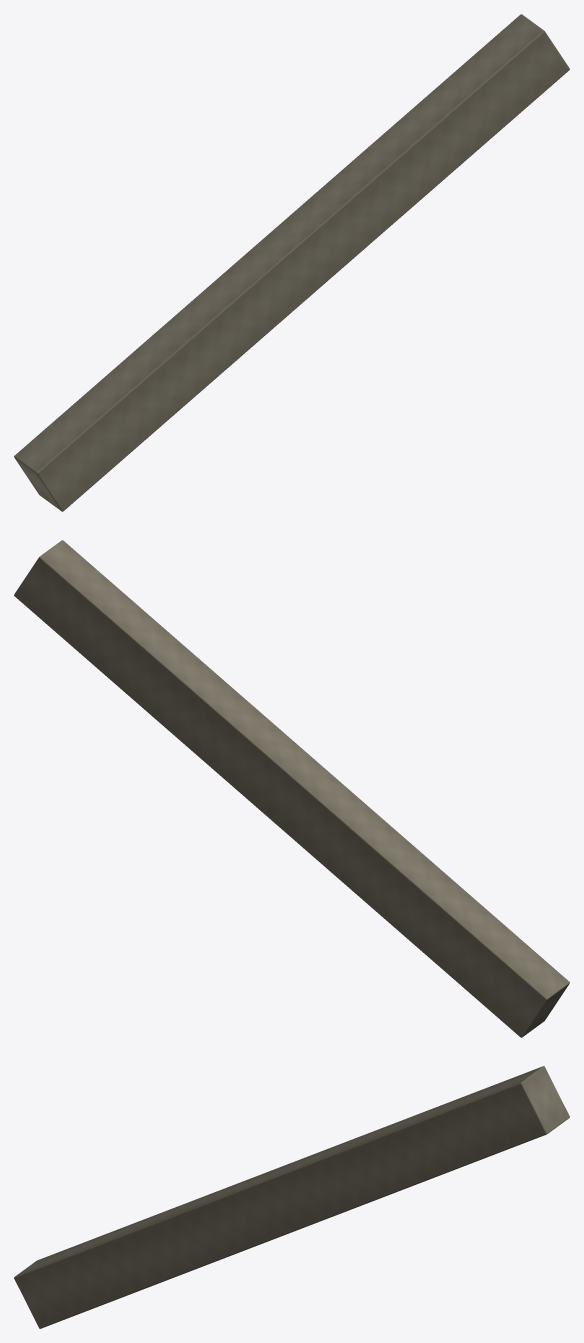
The model's file is MRP_Brace_1x0p6m.fbx.
3 renders of one model, top to bottom at view 1: azimuth 30°, elevation 25°; view 2: azimuth 150°, elevation 25°; view 3: azimuth 330°, elevation 25°, orthographic.
Parts seen in each view (by area): view 1: Body; view 2: Body; view 3: Body.
Boxes of the visible parts, box(x1,y1,x2,y2) form: Body: box(14, 14, 569, 511); Body: box(14, 540, 569, 1037); Body: box(14, 1066, 569, 1328).
Size of the model in its own units: 1.05 by 0.6841 by 0.08.
